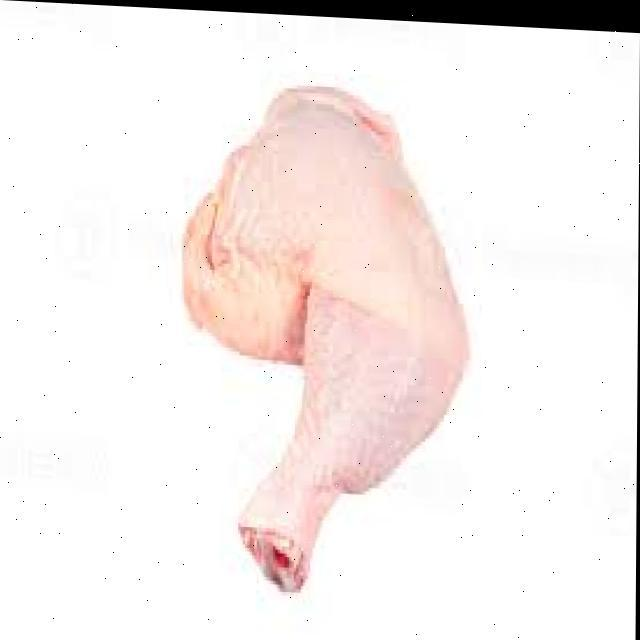quater: (179, 70, 456, 593)
